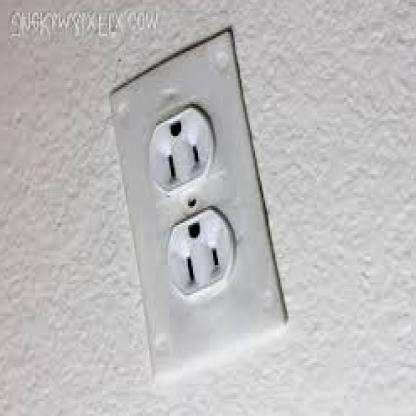OUTLET: (112, 28, 287, 383)
